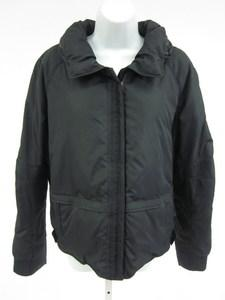C_jacket: (10, 17, 217, 283)
